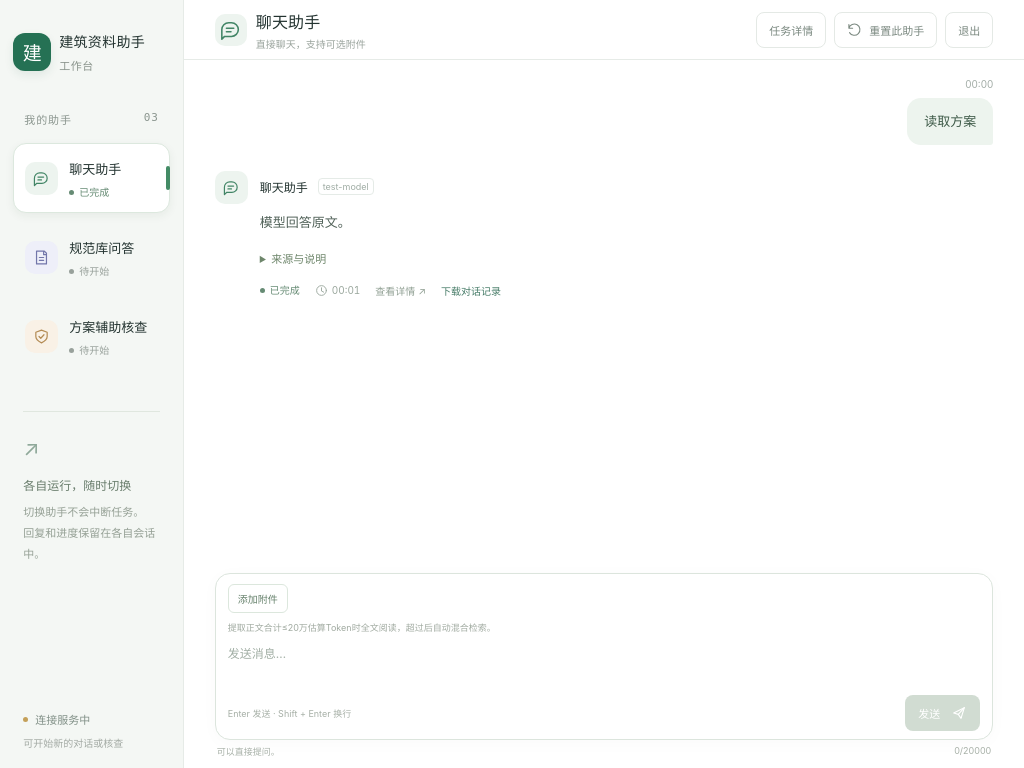
OCR notices in task results › keeps ordinary native-text warnings in the existing collapsed section without adding an OCR notice
Click the heading "来源与说明" at (299, 259), box [271, 252, 326, 266]
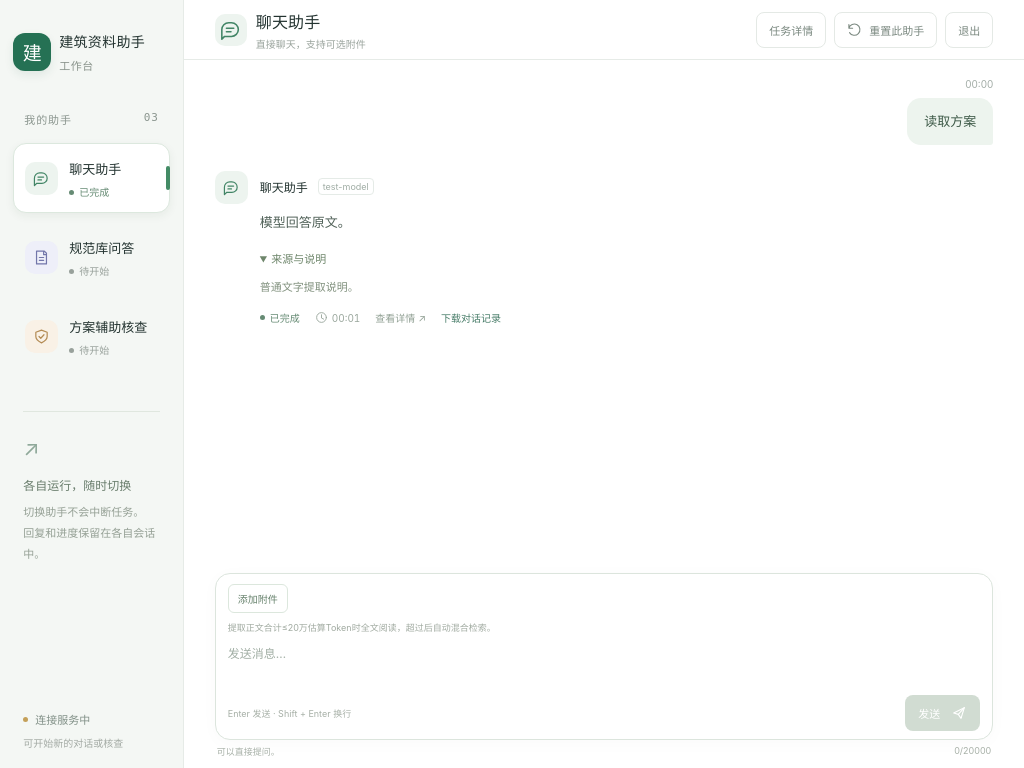
Result: the text "普通文字提取说明。" is shown at [260, 280, 359, 294]
